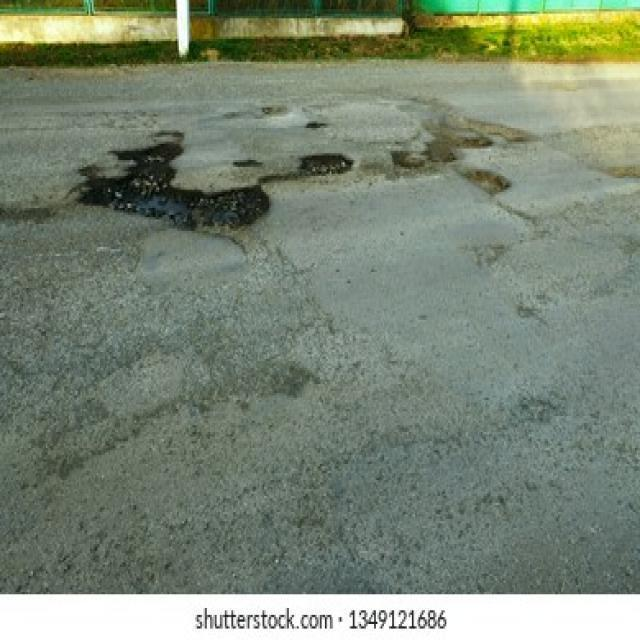Pothole: (78, 142, 353, 228), (390, 104, 539, 167), (468, 171, 510, 194)
